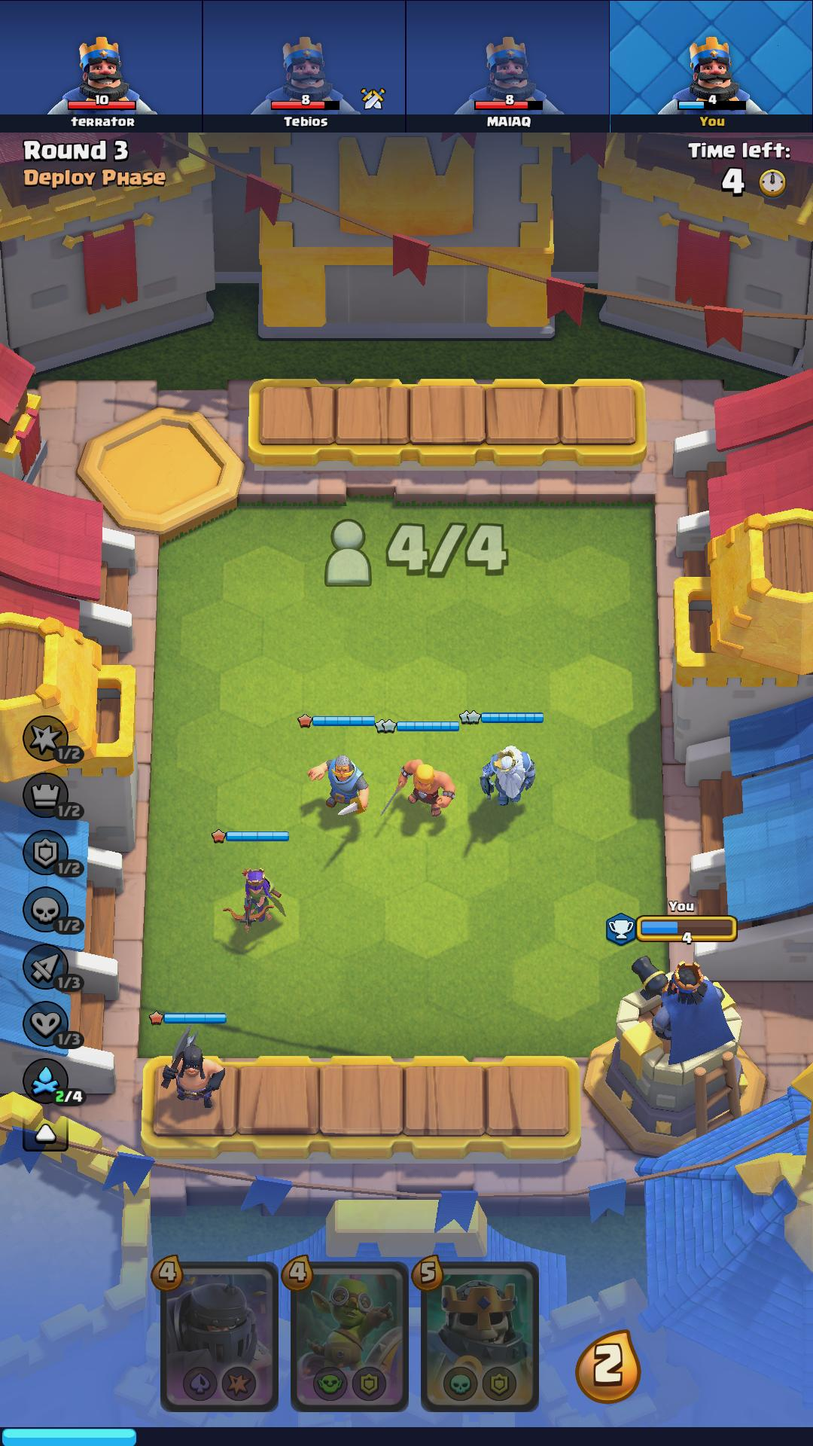barbarian: (388, 754, 454, 827)
executioner: (154, 1029, 226, 1112)
ghost: (472, 734, 536, 812)
hand-king: (422, 1265, 537, 1408)
hand-machine: (296, 1263, 405, 1410)
hand-mega: (158, 1265, 277, 1410)
knight: (297, 743, 373, 825)
queen: (215, 859, 290, 933)
